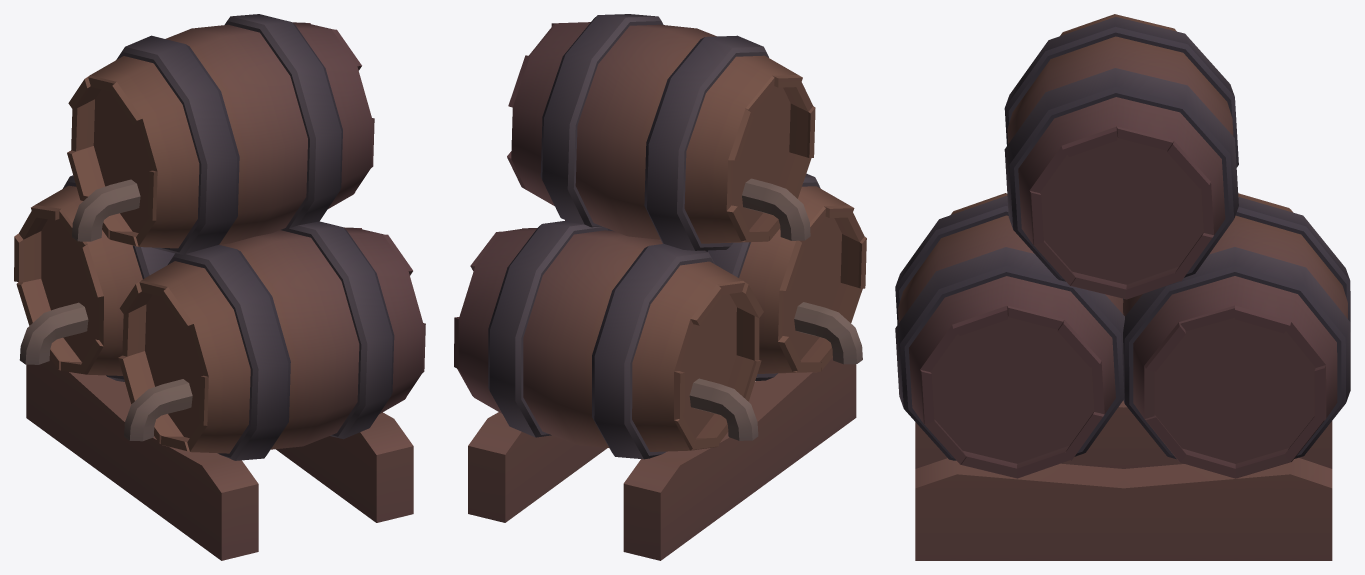
File: SM_Barrel_Stack.fbx
3 views of the same model, side by side, from view 1: azimuth 30°, elevation 25°; view 2: azimuth 150°, elevation 25°; view 3: azimuth 270°, elevation 25° (orthographic). The views are drawn at different scales.
Parts seen in each view (by area): view 1: SM_Barrel_Stack; view 2: SM_Barrel_Stack; view 3: SM_Barrel_Stack.
Part boxes in pixels (bbox=[...]): SM_Barrel_Stack: bbox=[14, 14, 425, 560]; SM_Barrel_Stack: bbox=[454, 14, 866, 560]; SM_Barrel_Stack: bbox=[895, 14, 1350, 560].
Size of the model in its own units: 115 by 184 by 163.
2 materials, 2 textured.
